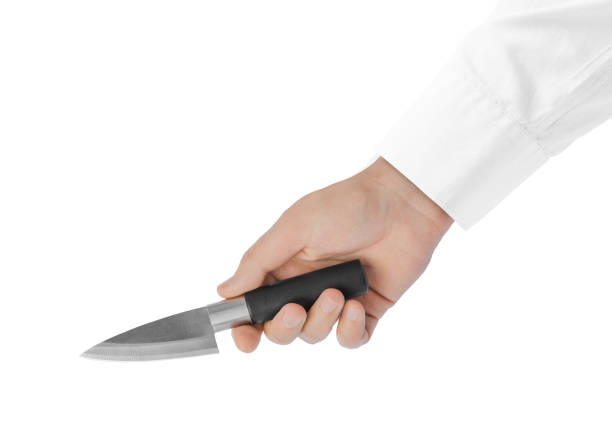knife: (77, 257, 366, 362), (79, 387, 82, 388)
